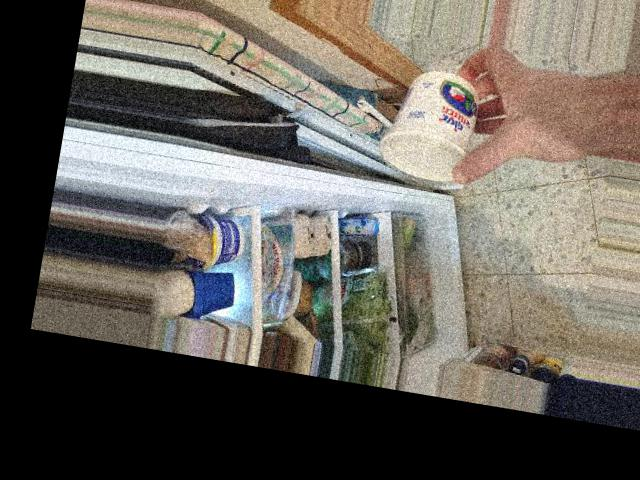cotage: (372, 59, 501, 193)
